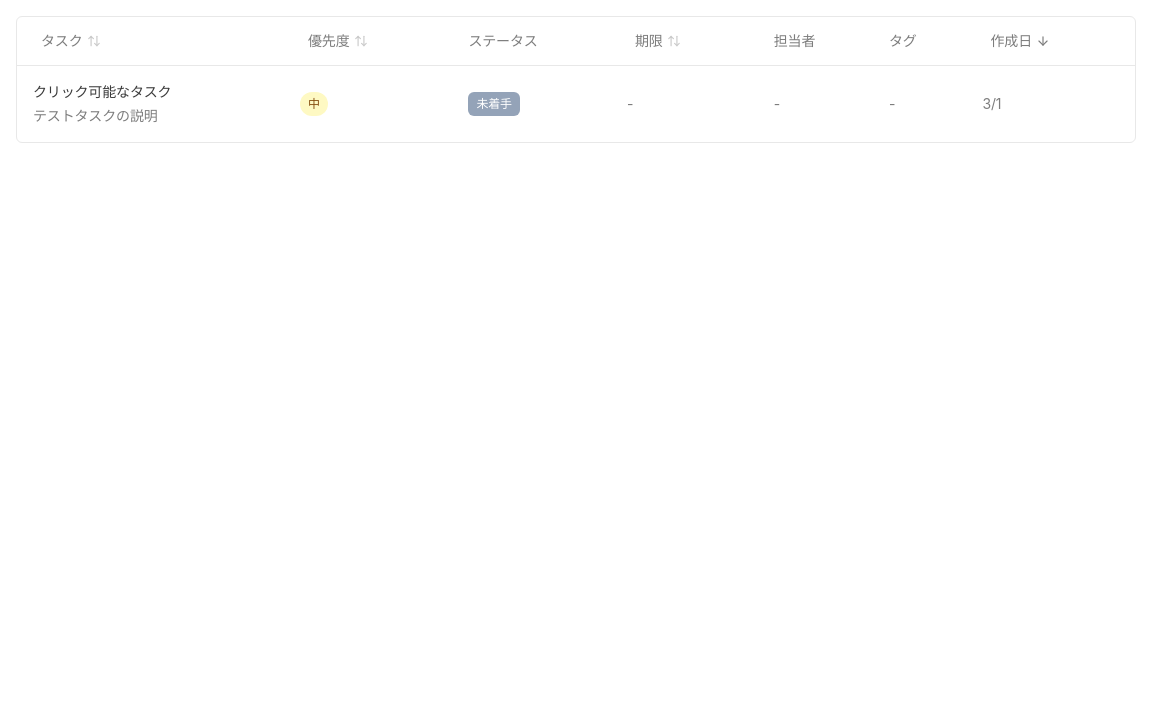
Test case: ListView › タスククリック › タスク行をクリックでEditTaskDialogが開く
The image size is (1152, 720).
Expected: the text "クリック可能なタスク" is shown, 33,82 -> 171,100
Step 1. Click the text "クリック可能なタスク" → coordinates (102, 91), box 17,65 -> 1135,142
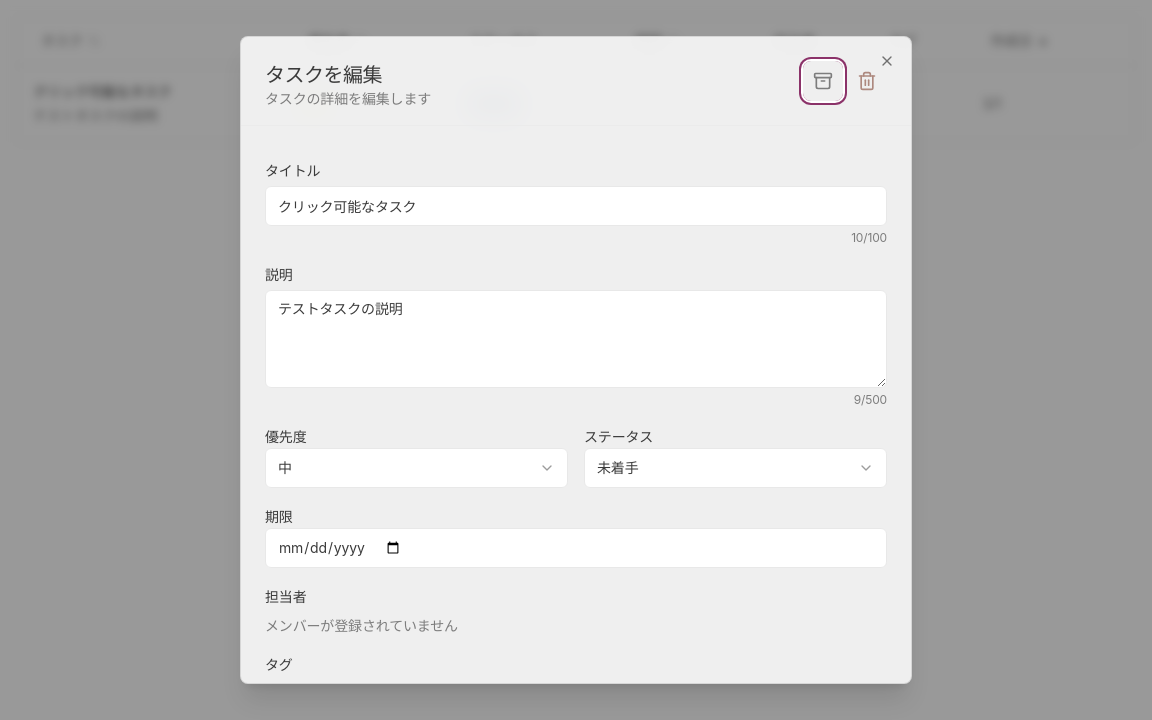
Result: the heading "タスクを編集" is shown at 265,63 -> 382,87
